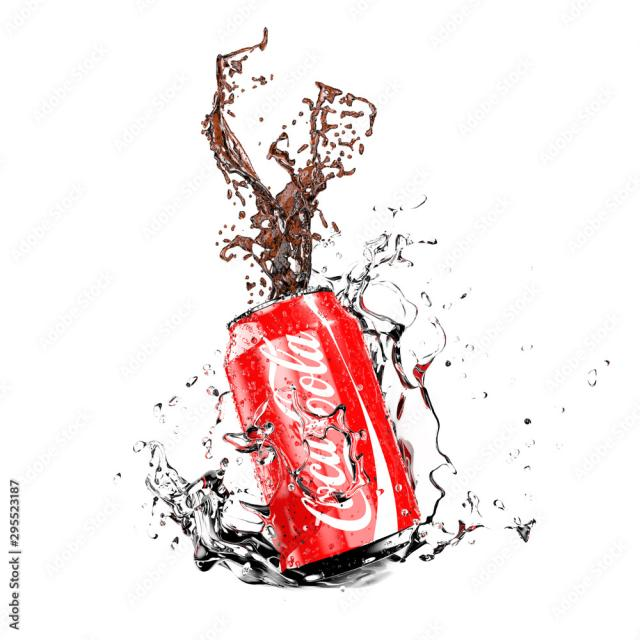cocacola: (221, 291, 424, 590)
